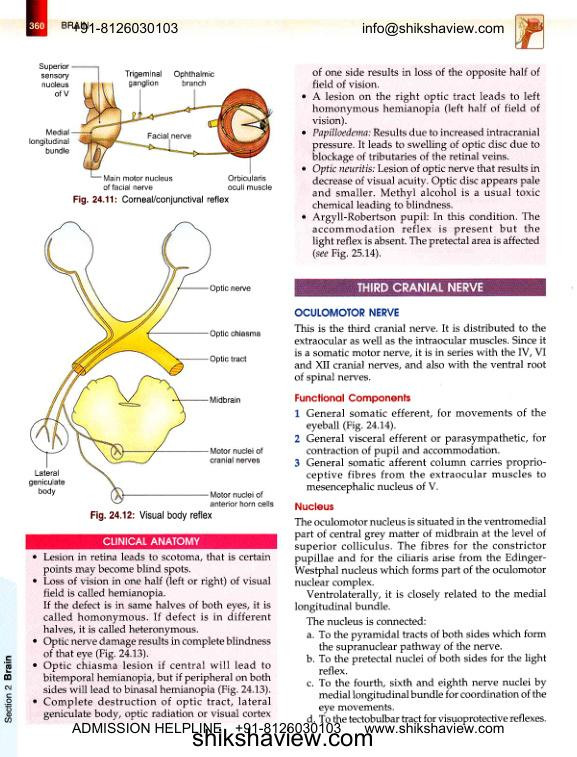caption: (72, 194, 231, 206), (88, 509, 214, 522), (102, 536, 201, 547)
image: (17, 214, 277, 509), (18, 56, 279, 193)
list: (298, 66, 542, 261), (30, 551, 273, 722), (304, 628, 548, 725), (293, 408, 547, 495)
section-heading: (356, 282, 485, 294)
sub-section-heading: (293, 392, 412, 405), (293, 307, 400, 318), (293, 501, 335, 512)
text: (293, 516, 547, 627), (293, 322, 547, 385)
